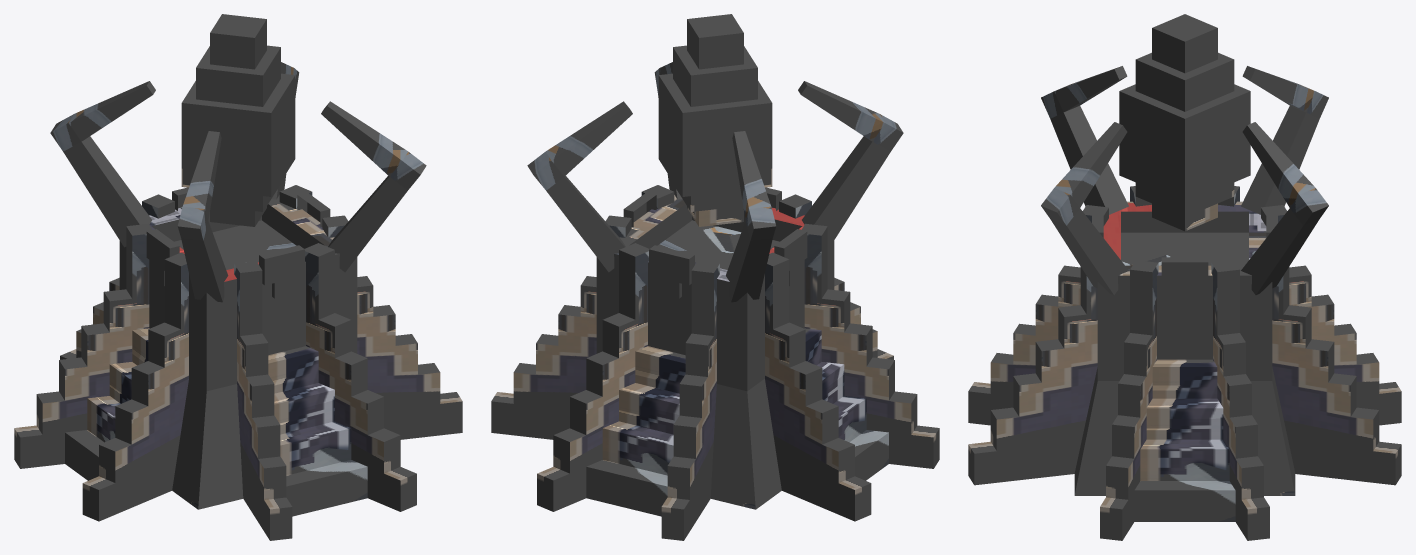
File: WiezaDuchow.fbx
3 views of the same model, side by side, from view 1: azimuth 30°, elevation 25°; view 2: azimuth 150°, elevation 25°; view 3: azimuth 270°, elevation 25° (orthographic).
Visible parts, largest first — view 1: Podstawa; view 2: Podstawa; view 3: Podstawa.
Part boxes in pixels (x1,y1,x2,y2): Podstawa: (14, 14, 462, 540); Podstawa: (491, 14, 939, 540); Podstawa: (968, 14, 1401, 540).
Bounding box in the file's own units: 1863 × 2000 × 1863.
